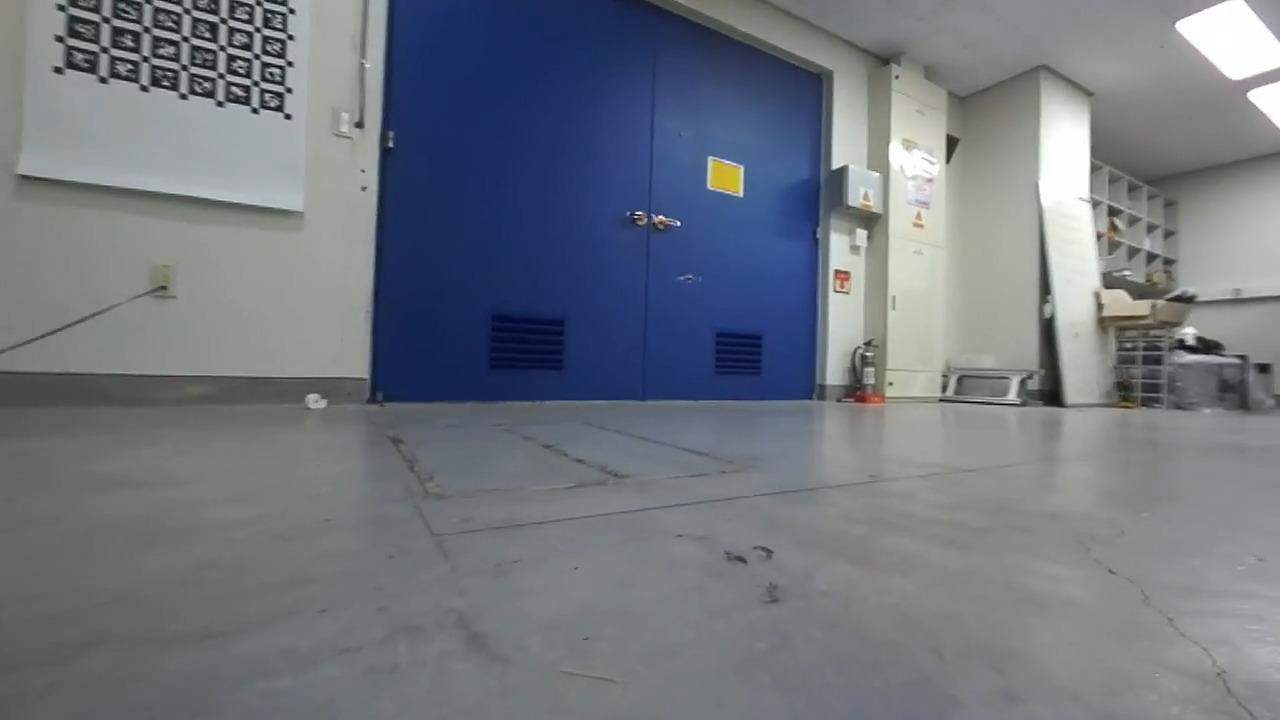crazyflie: (670, 270, 704, 290)
